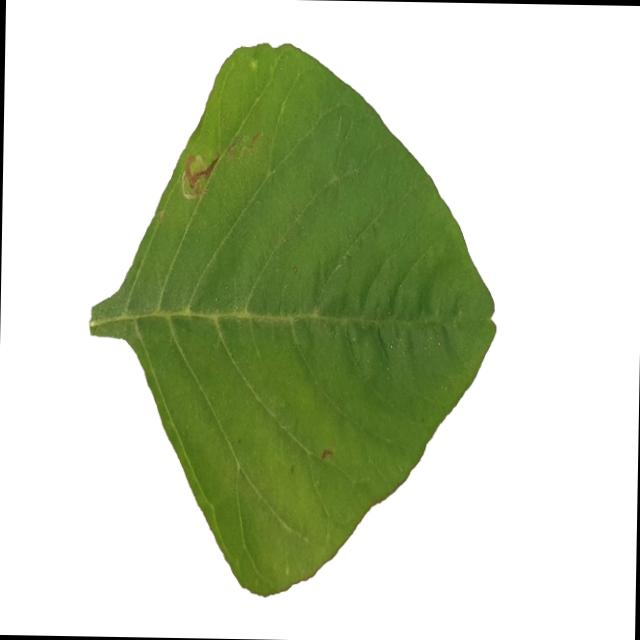Medicinal-Arive Dantu: (84, 38, 502, 600)
